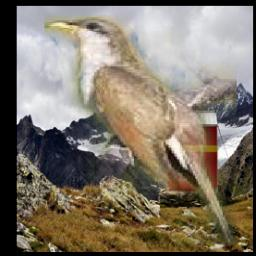Cuckoo: (44, 15, 237, 244)
